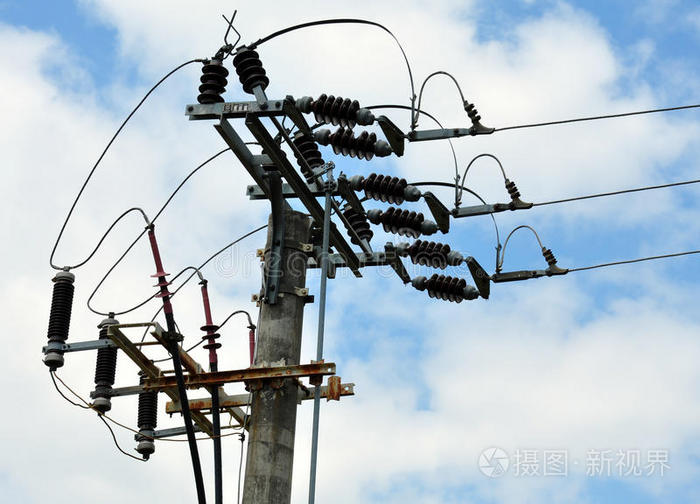insulator: (310, 92, 360, 127), (328, 125, 376, 161), (231, 50, 269, 91), (362, 170, 405, 204), (380, 206, 423, 239), (411, 236, 452, 270), (195, 64, 228, 104), (425, 273, 465, 304), (292, 135, 324, 173), (342, 207, 372, 244)
